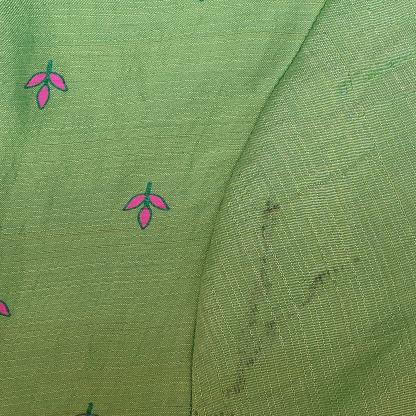spot: (260, 194, 280, 219), (256, 254, 271, 287), (230, 371, 249, 394), (251, 220, 277, 235), (239, 348, 256, 368), (243, 353, 259, 371), (248, 298, 262, 318), (299, 293, 313, 313), (244, 306, 256, 325), (217, 408, 240, 416), (314, 270, 325, 286), (261, 234, 272, 250), (321, 265, 344, 272), (310, 278, 324, 289), (269, 318, 279, 332), (307, 288, 315, 304), (352, 254, 362, 265)
